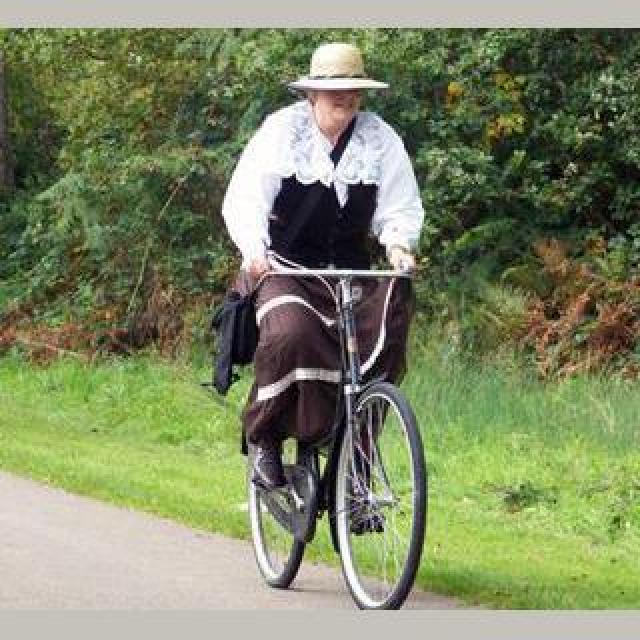MC-Bike: (216, 34, 424, 516)
Person: (240, 268, 430, 606)
